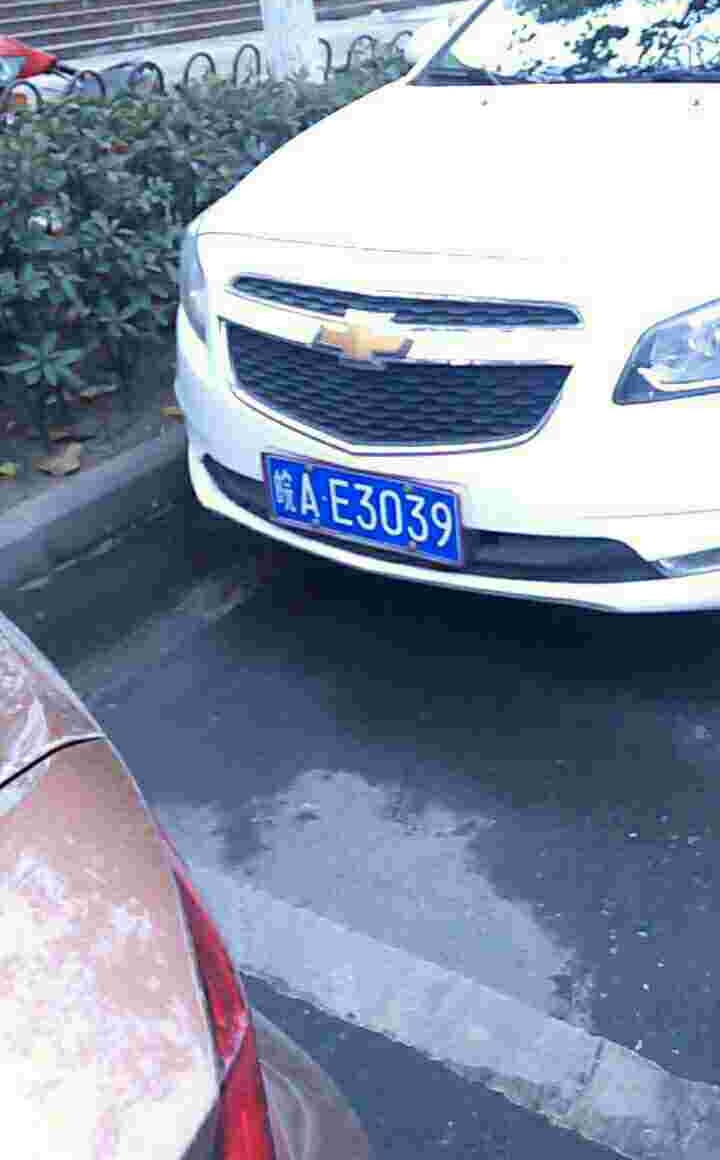license_plate: (273, 460, 468, 549)
